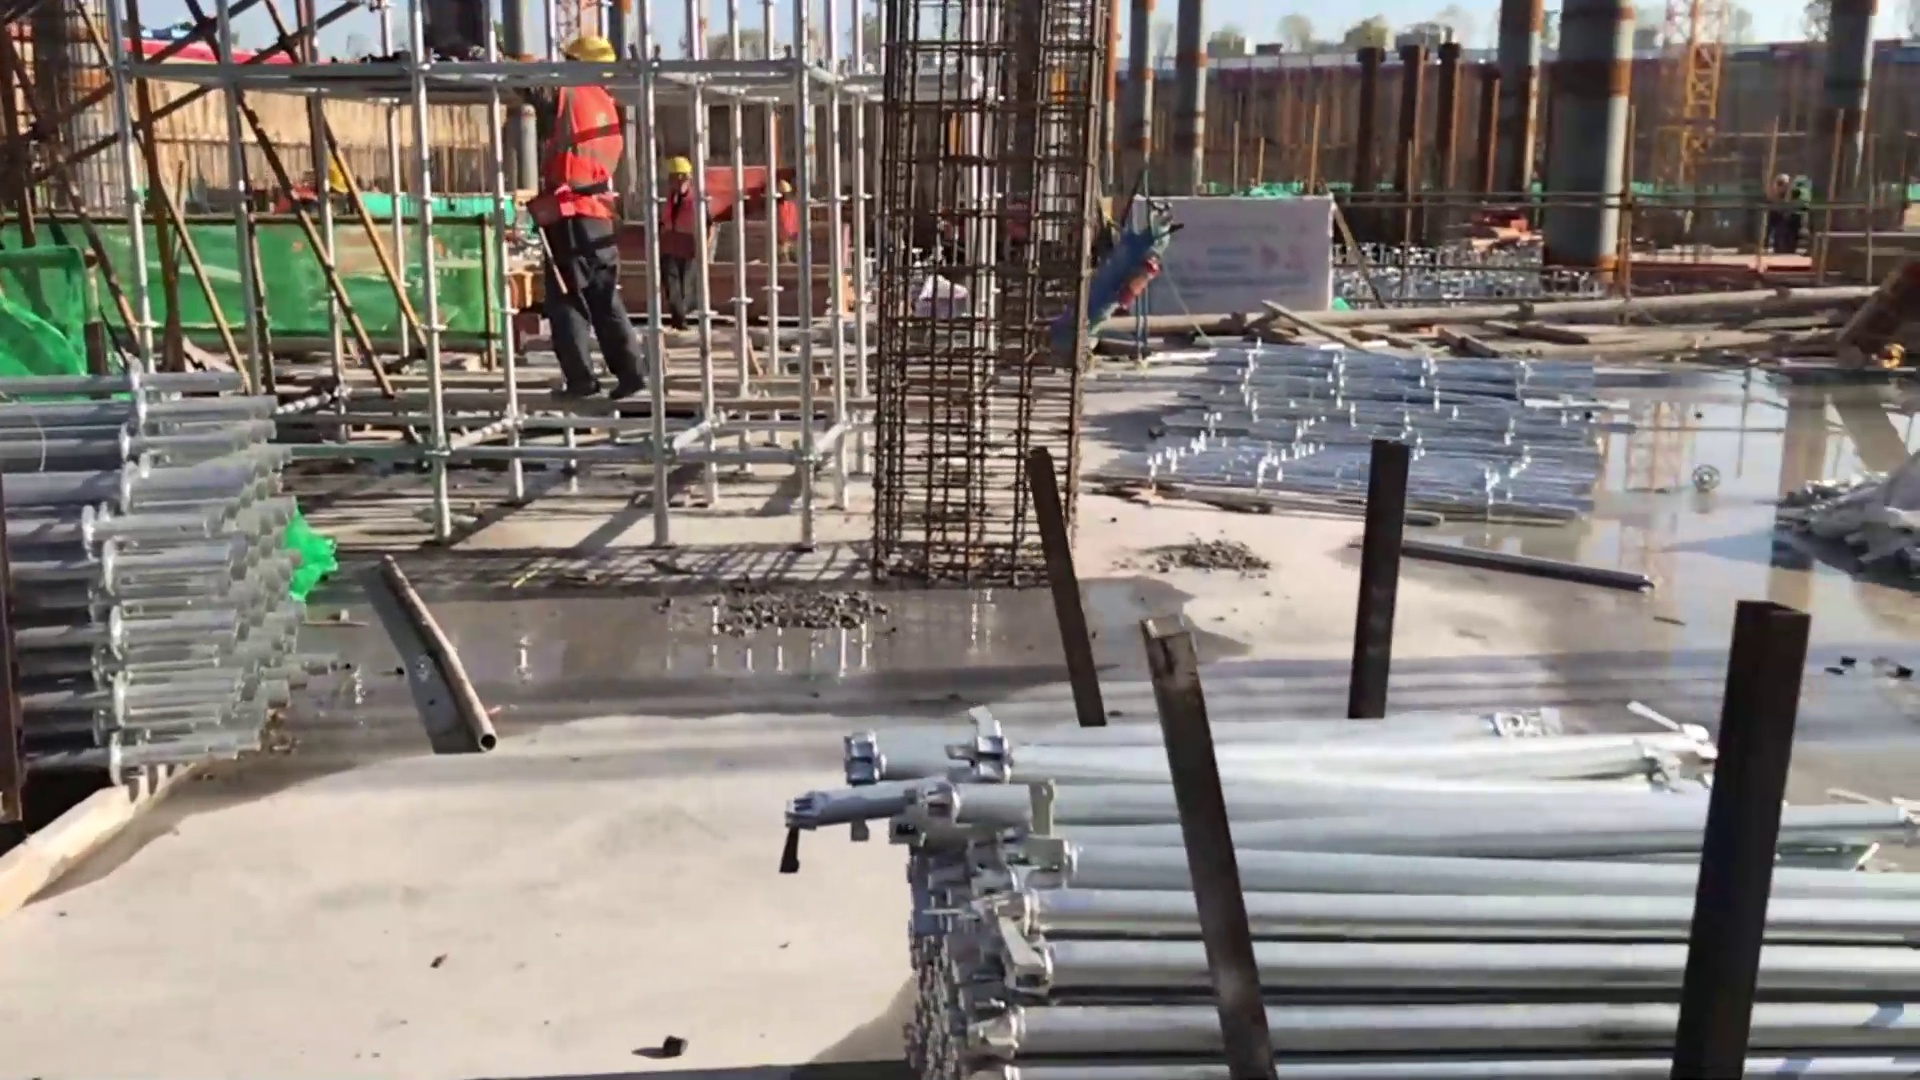helmet: (566, 30, 621, 66)
person: (513, 37, 648, 391), (662, 156, 709, 326), (765, 169, 804, 265)
scaffold: (781, 706, 1920, 1080), (1, 368, 315, 779), (1178, 350, 1594, 511)
vest: (550, 87, 636, 235)
